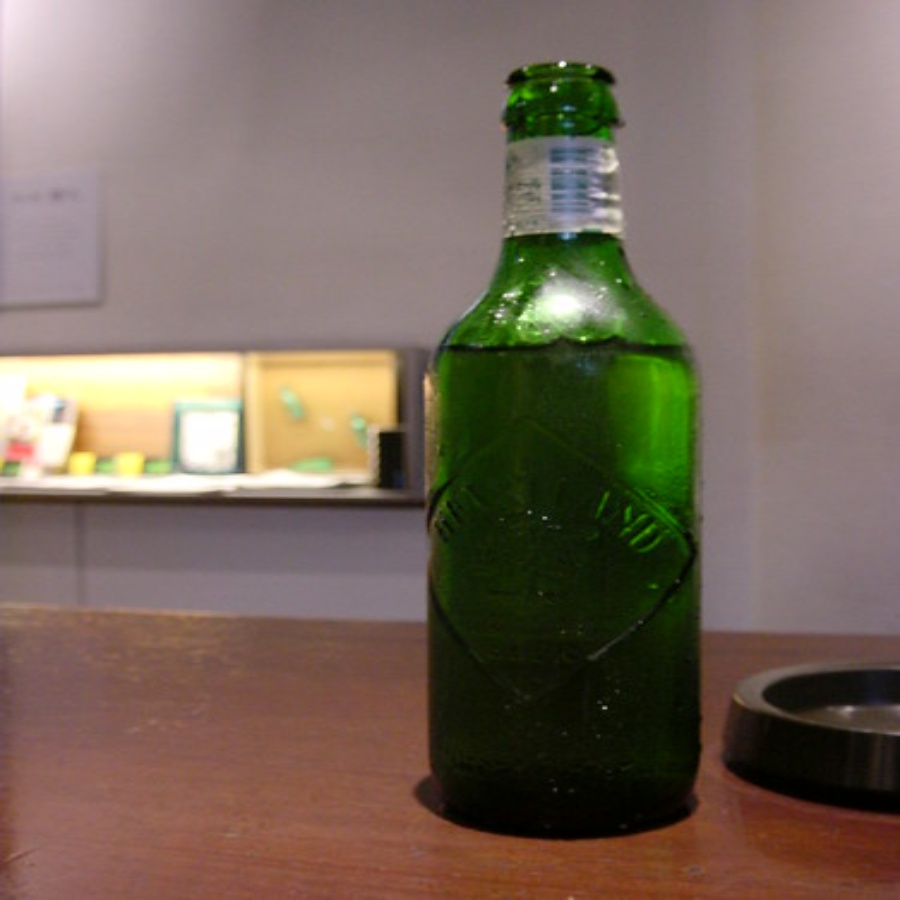beer: (424, 65, 715, 826)
